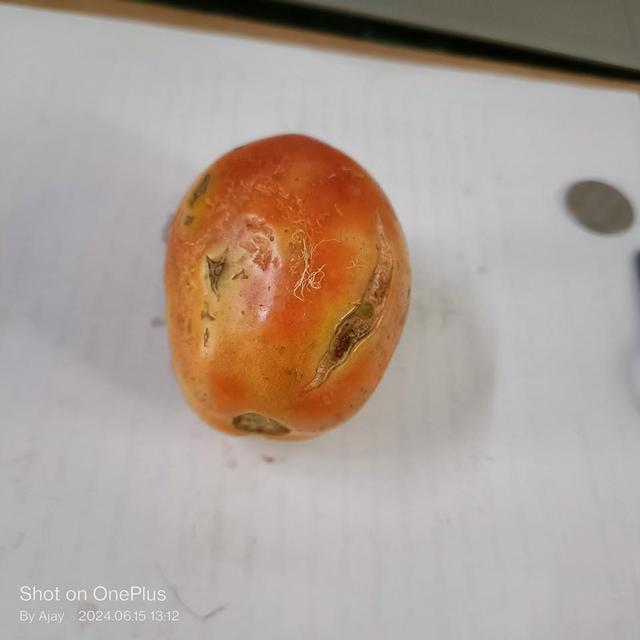Bacterial Spot Fruit: (17, 26, 239, 222)
